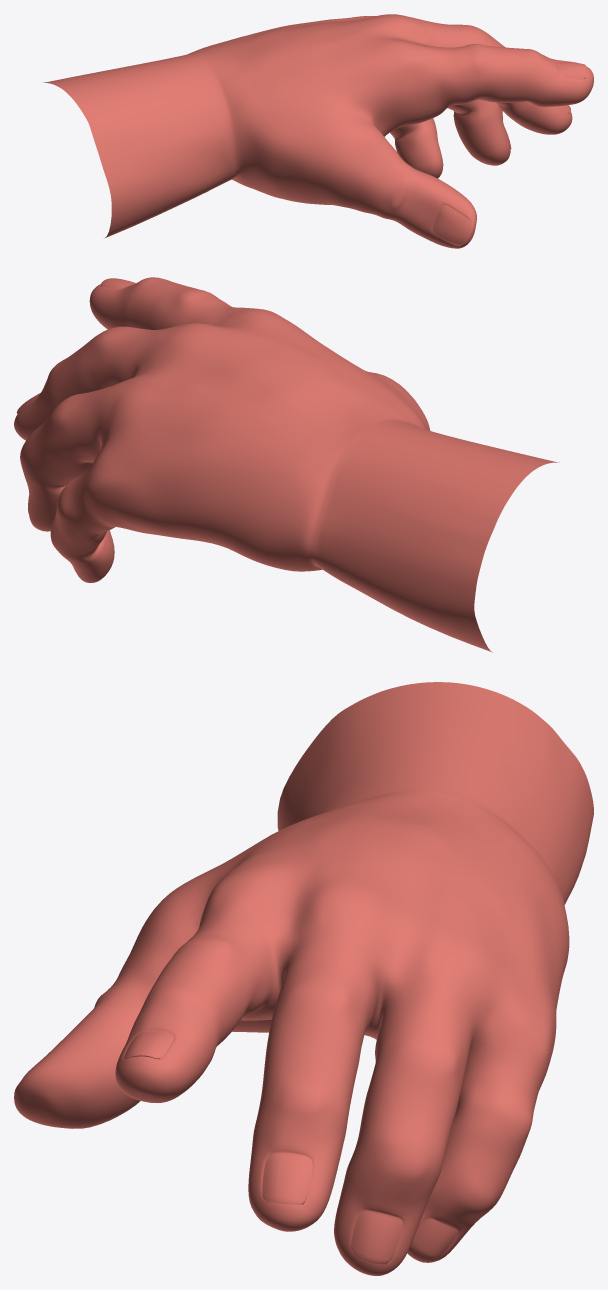
The model's file is hand_geo_01.glb.
3 views of the same model, one above another, from view 1: azimuth 30°, elevation 25°; view 2: azimuth 150°, elevation 25°; view 3: azimuth 270°, elevation 25° (orthographic). The views are drawn at different scales.
Visible parts, largest first — view 1: L_hand_geo1_L_hand_geo_grp; view 2: L_hand_geo1_L_hand_geo_grp; view 3: L_hand_geo1_L_hand_geo_grp.
Part boxes in pixels (<box>): L_hand_geo1_L_hand_geo_grp: <box>43,14,593,248</box>; L_hand_geo1_L_hand_geo_grp: <box>14,277,559,652</box>; L_hand_geo1_L_hand_geo_grp: <box>14,682,593,1275</box>.
Size of the model in its own units: 5.16 by 2.12 by 3.42.
